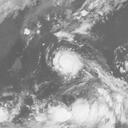cyclone: (50, 47, 85, 79)
